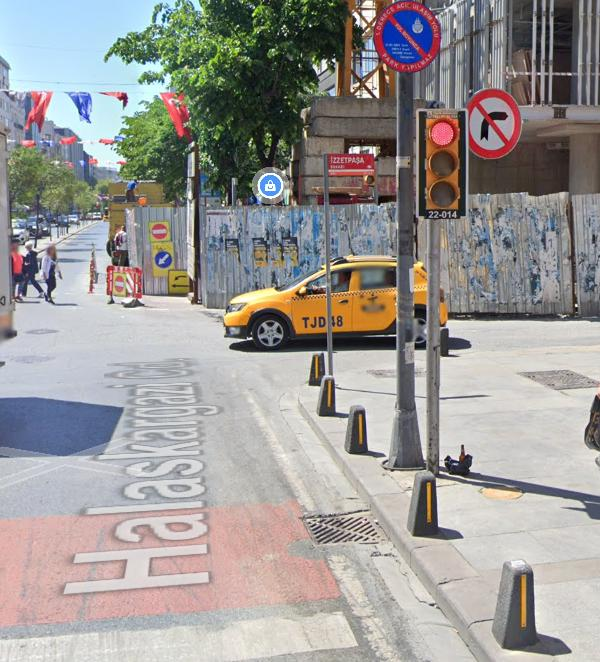redlight: (419, 110, 465, 221)
rightturnsareforbidden: (465, 87, 522, 160)
